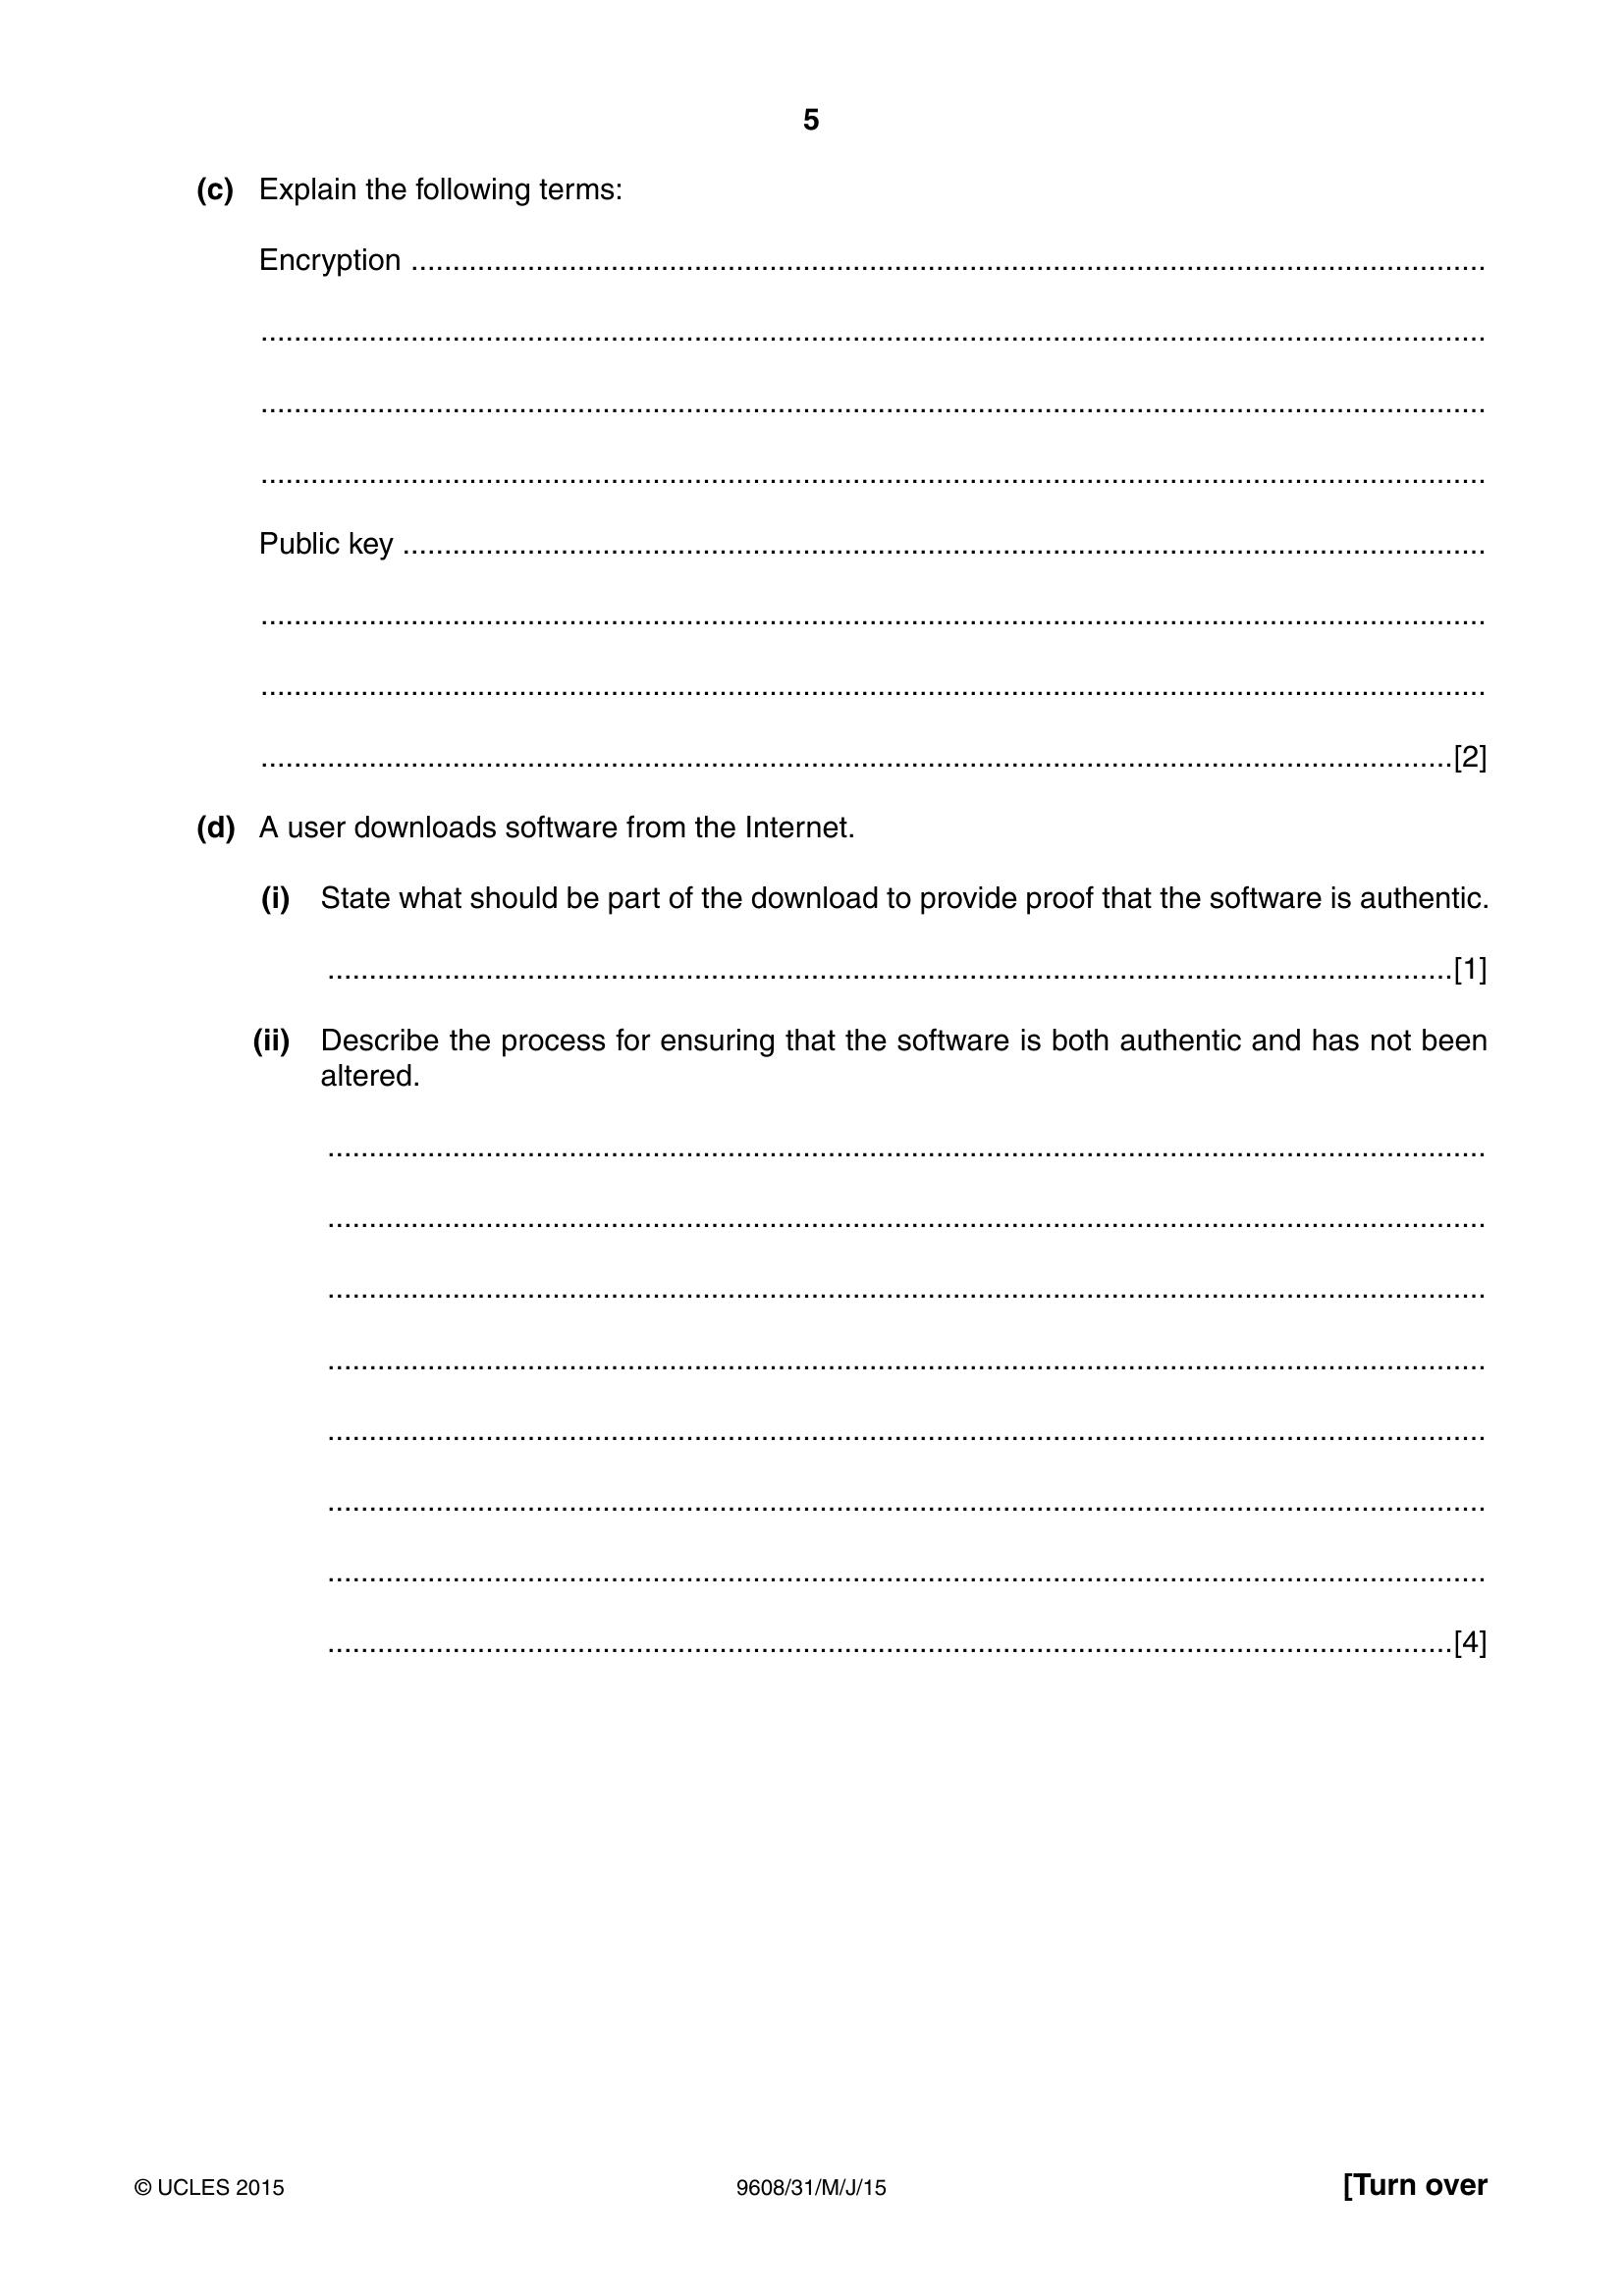continued question: (11, 160, 1624, 1730)
